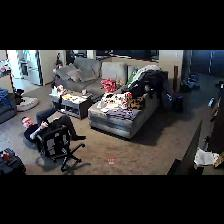person: (22, 96, 85, 142)
